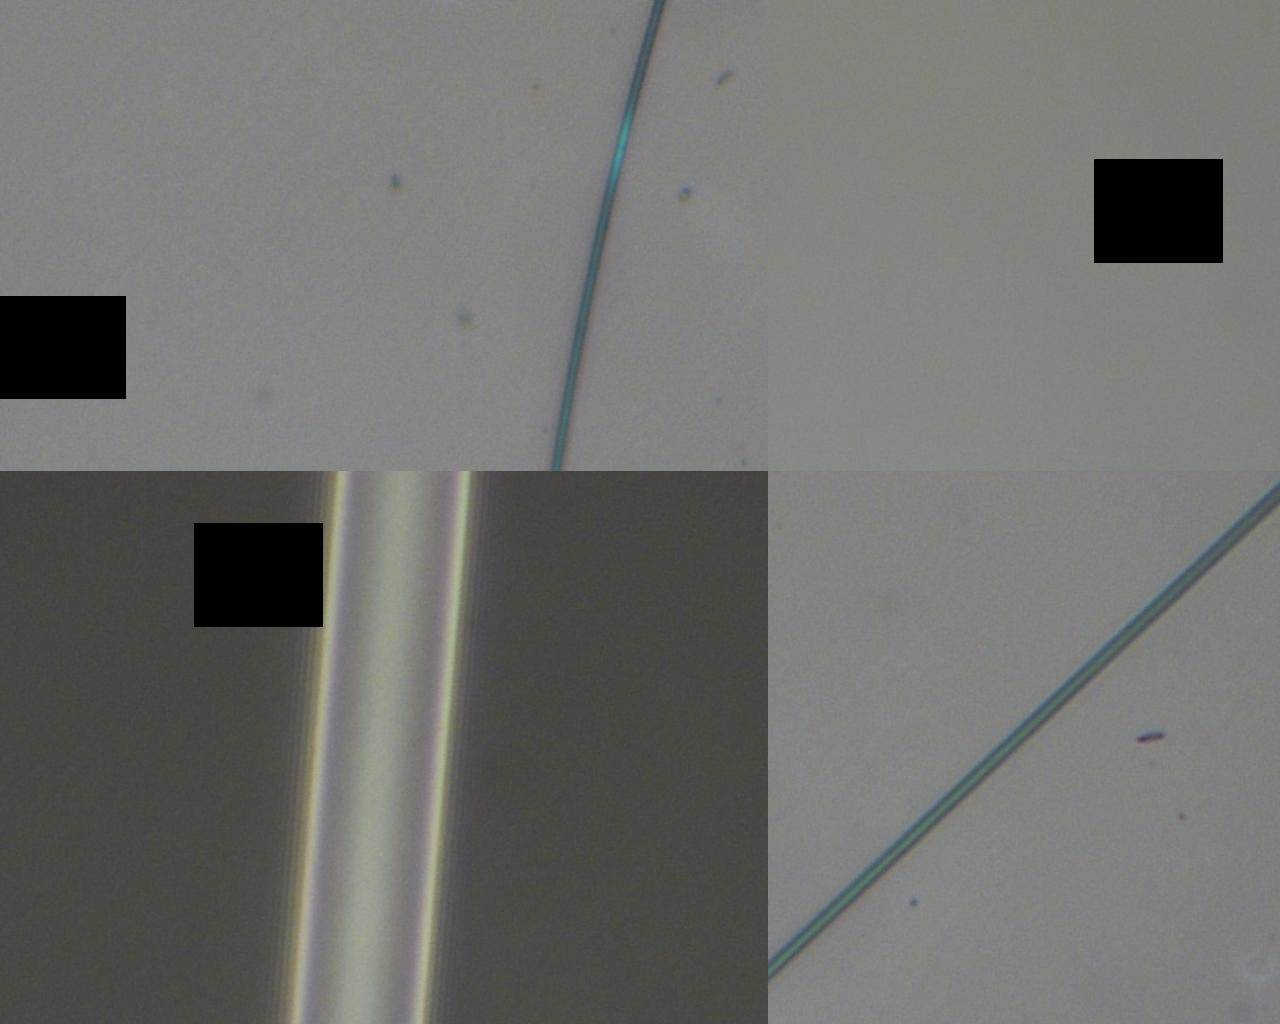fiber: (499, 0, 1125, 583), (0, 78, 499, 450), (1183, 583, 1207, 1024)
